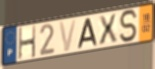2: (38, 22, 56, 57)
A: (76, 17, 99, 50)
H: (18, 24, 37, 61)
S: (118, 8, 139, 44)
V: (58, 18, 78, 54)
X: (97, 13, 119, 47)
